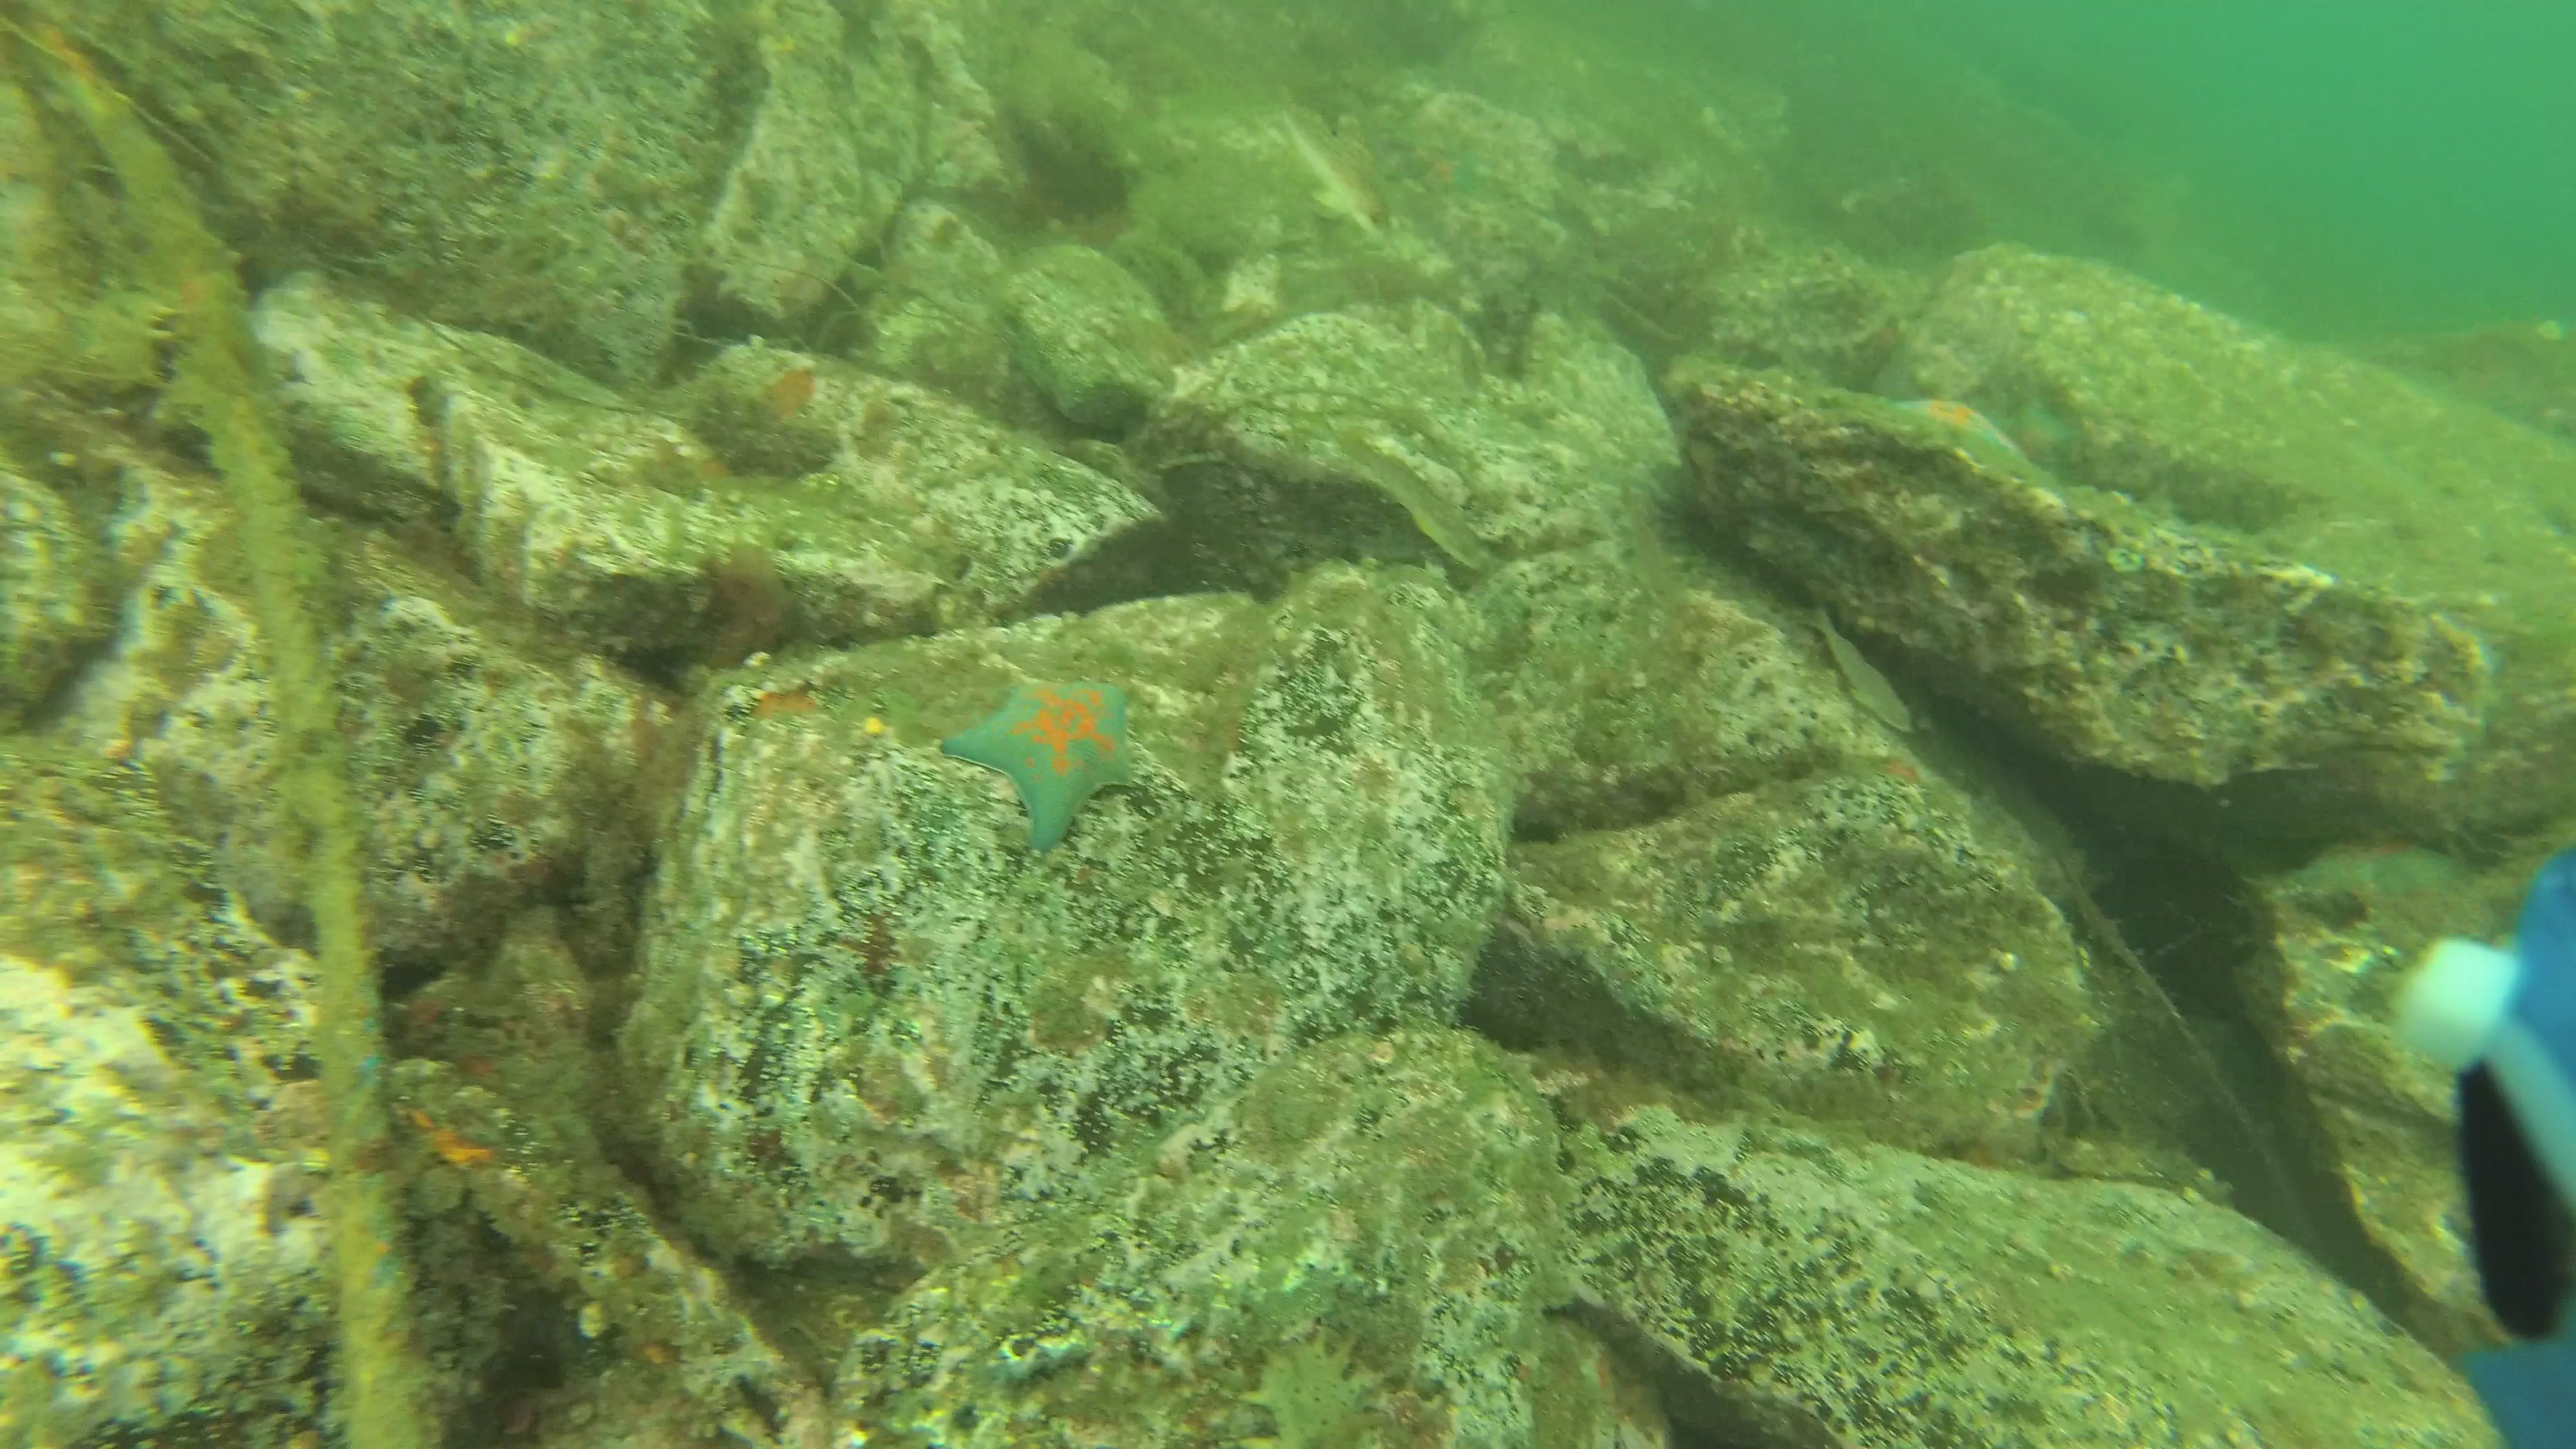starfish: (947, 663, 1146, 860), (1891, 389, 2047, 487), (2302, 830, 2480, 904)
